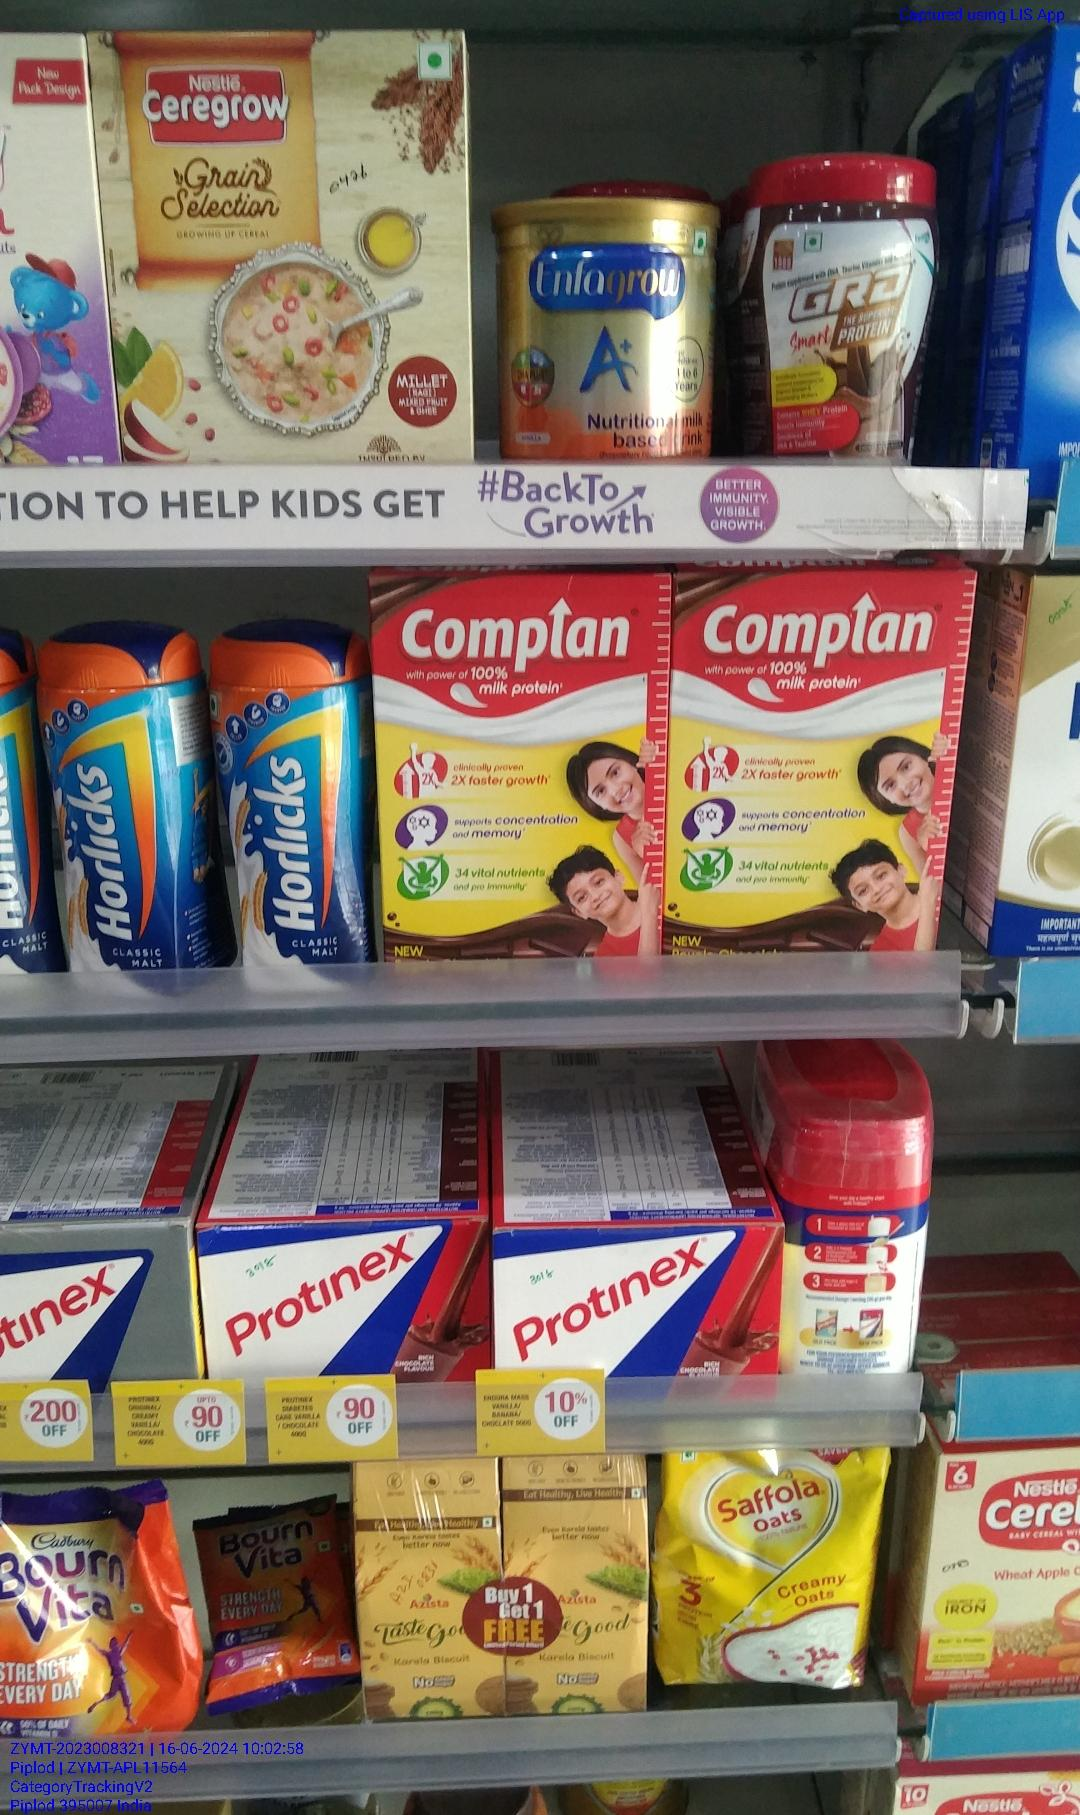BOURN_VITA_500_G_POUCH: (3, 1489, 193, 1739)
BOURN_VITA_75_G_POUCH: (204, 1512, 345, 1681)
HORLICK_CLASSIC_MALT_500_G_JAR: (40, 630, 203, 999), (219, 630, 368, 992)
